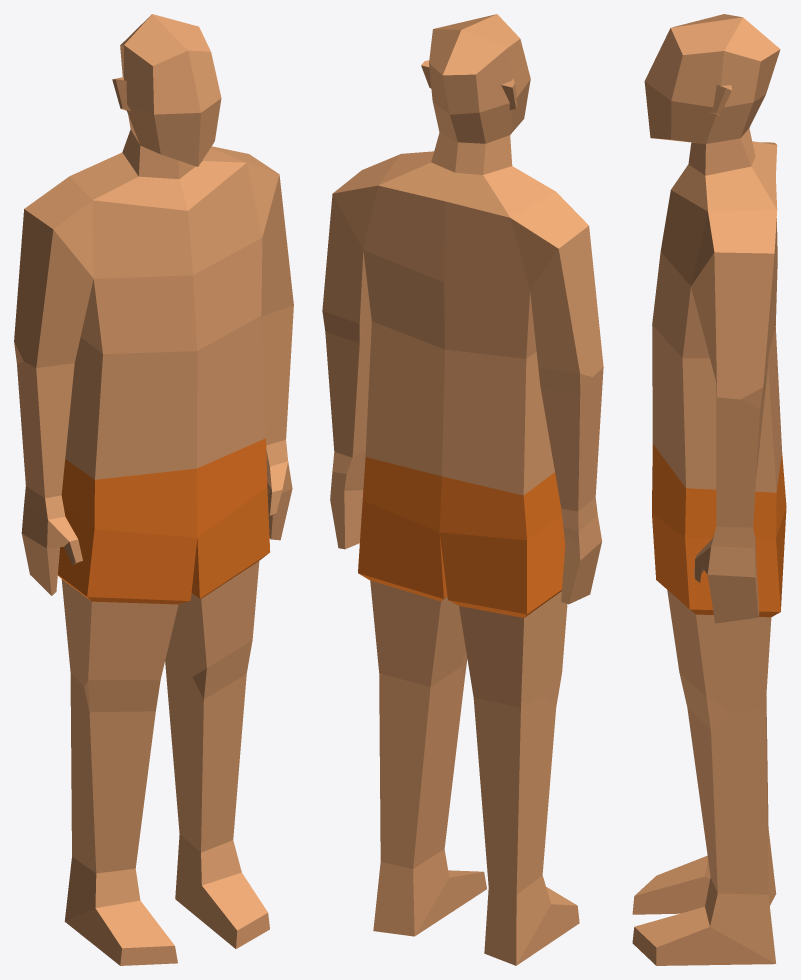
The model's file is people_man-swimming.fbx.
The picture shows the model from 3 angles, left to right: view 1: azimuth 30°, elevation 25°; view 2: azimuth 150°, elevation 25°; view 3: azimuth 270°, elevation 25°; orthographic projection.
Parts seen in each view (by area): view 1: people_man_swimming; view 2: people_man_swimming; view 3: people_man_swimming.
Boxes of the visible parts, x1=… form: people_man_swimming: x1=14, y1=14, x2=293, y2=965; people_man_swimming: x1=322, y1=14, x2=603, y2=965; people_man_swimming: x1=632, y1=14, x2=786, y2=965.
Bounding box in the file's own units: 60.14 × 200 × 30.62.
